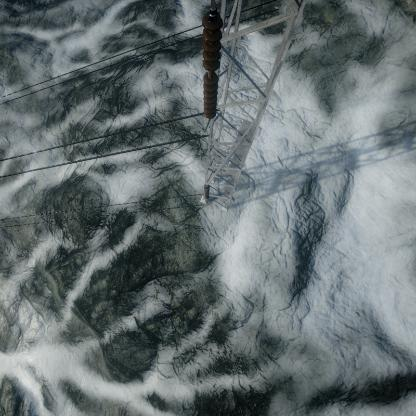insulator: (200, 8, 222, 118)
